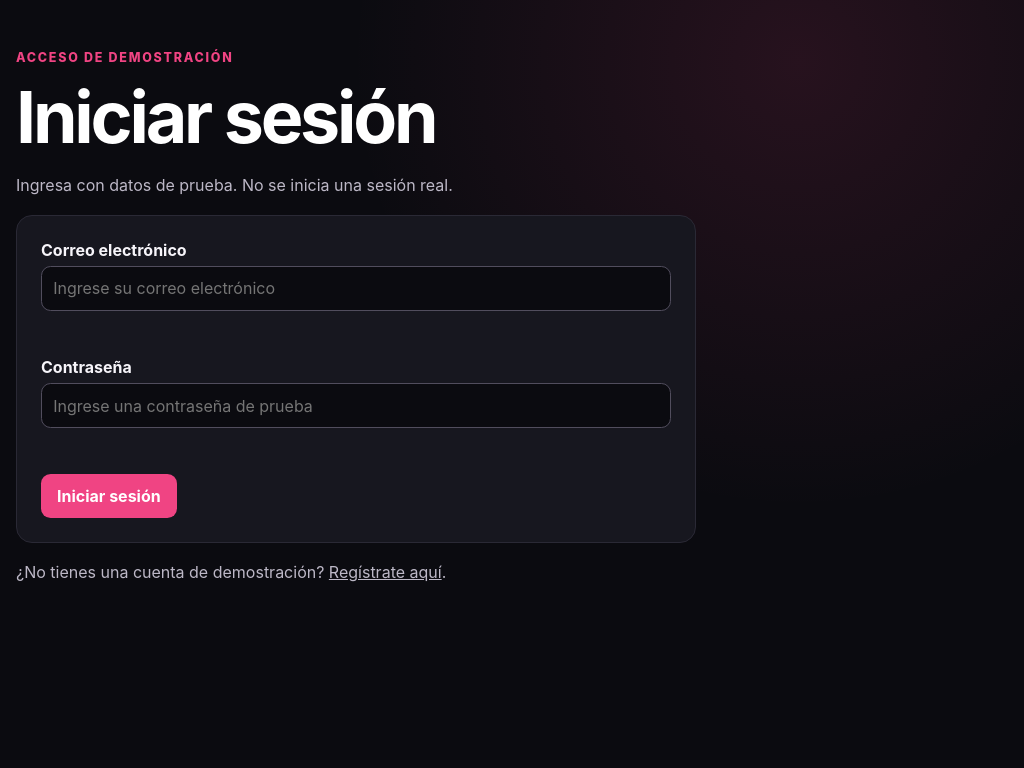
it: InicioSesionPage › muestra el aviso final con datos válidos
The image size is (1024, 768).
In the field labelled "Correo electrónico": (356, 288) [41,266,671,311], type "usuario@gmail.com"
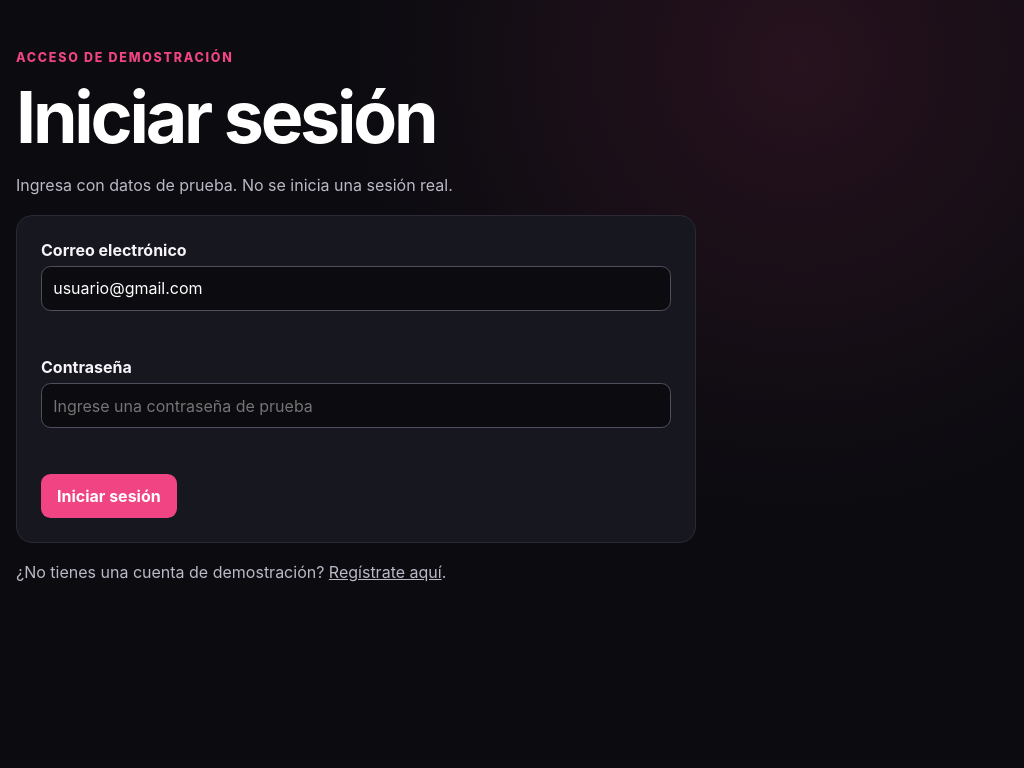
In the password field labelled "Contraseña": (356, 406) [41,383,671,428], type "1234"
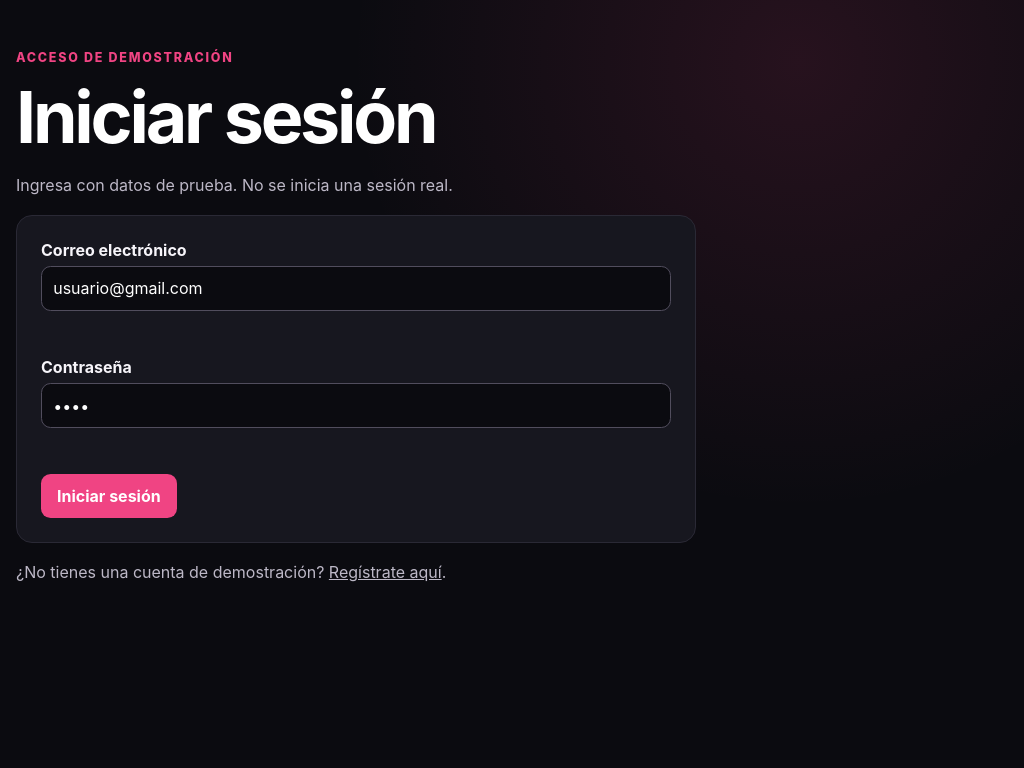
Click the button "Iniciar sesión": (109, 496) [41,474,177,518]
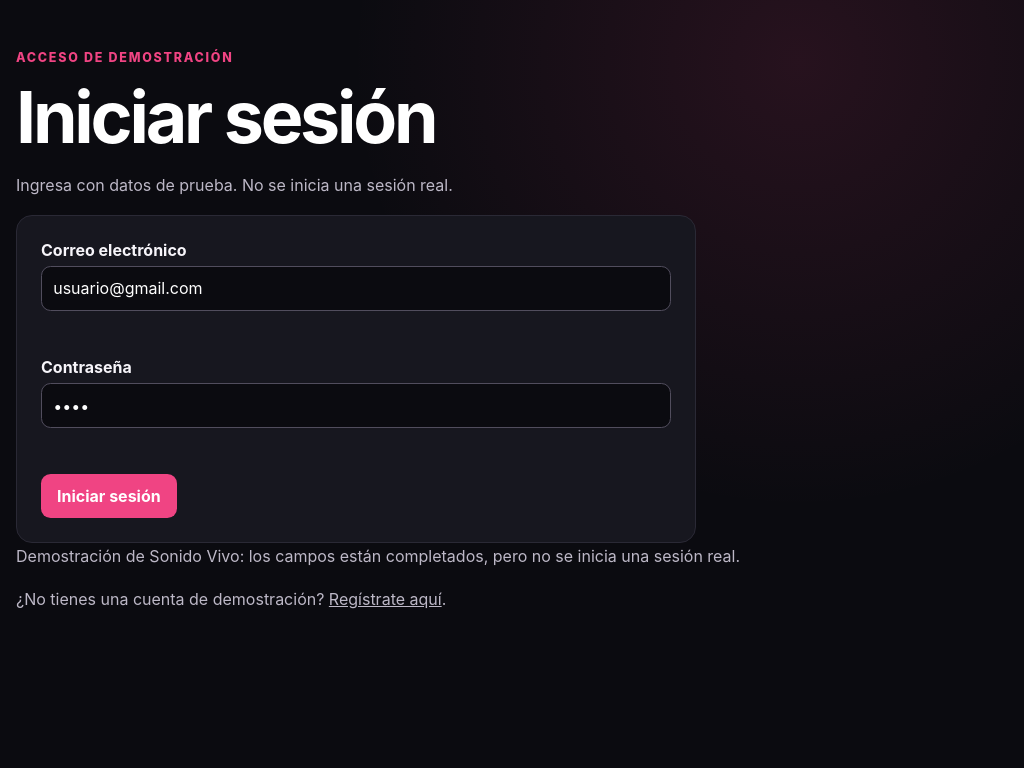
Now the text "Demostración de Sonido Vivo: los campos están completados, pero no se inicia una sesión real." is shown, box [16,546,740,566]
